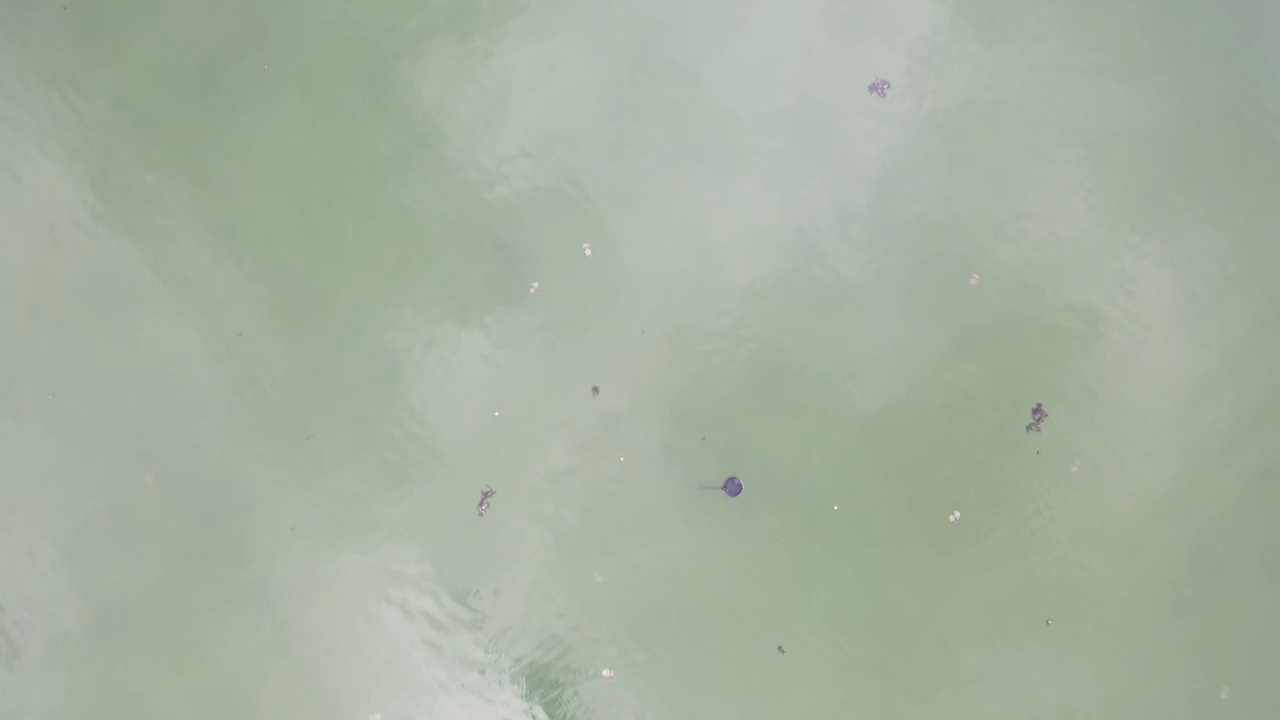meduse: (600, 667, 616, 680), (947, 509, 962, 522), (582, 243, 595, 255), (530, 282, 543, 293), (968, 274, 981, 285)
